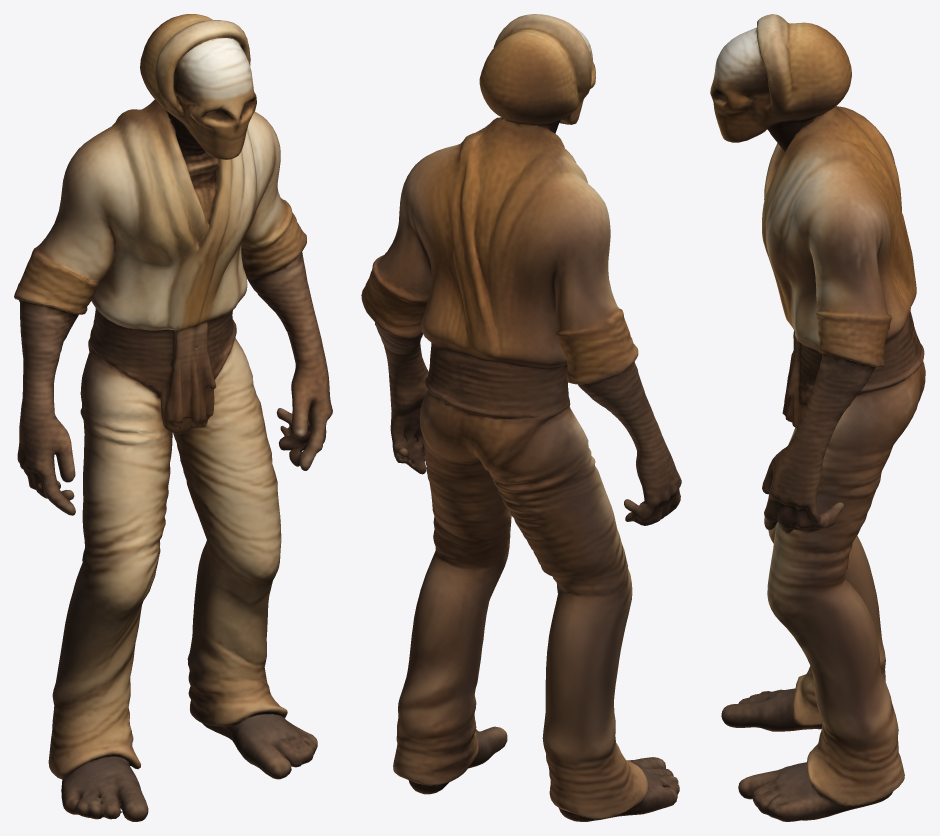
The model's file is mummy.glb.
The picture shows the model from 3 angles, left to right: view 1: azimuth 30°, elevation 25°; view 2: azimuth 150°, elevation 25°; view 3: azimuth 270°, elevation 25°; orthographic projection.
Parts seen in each view (by area): view 1: geometry_0; view 2: geometry_0; view 3: geometry_0.
Boxes of the visible parts, left/top/right/bottom form: geometry_0: left=14, top=14, right=332, bottom=821; geometry_0: left=361, top=14, right=681, bottom=821; geometry_0: left=710, top=14, right=925, bottom=821.
Bounding box in the file's own units: 0.4079 × 1 × 0.2612.
1 material, 1 textured.
